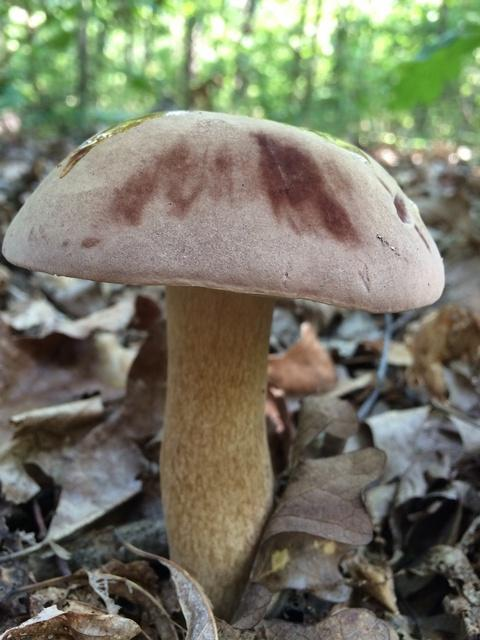poisonous_mushroom: (1, 107, 446, 619)
